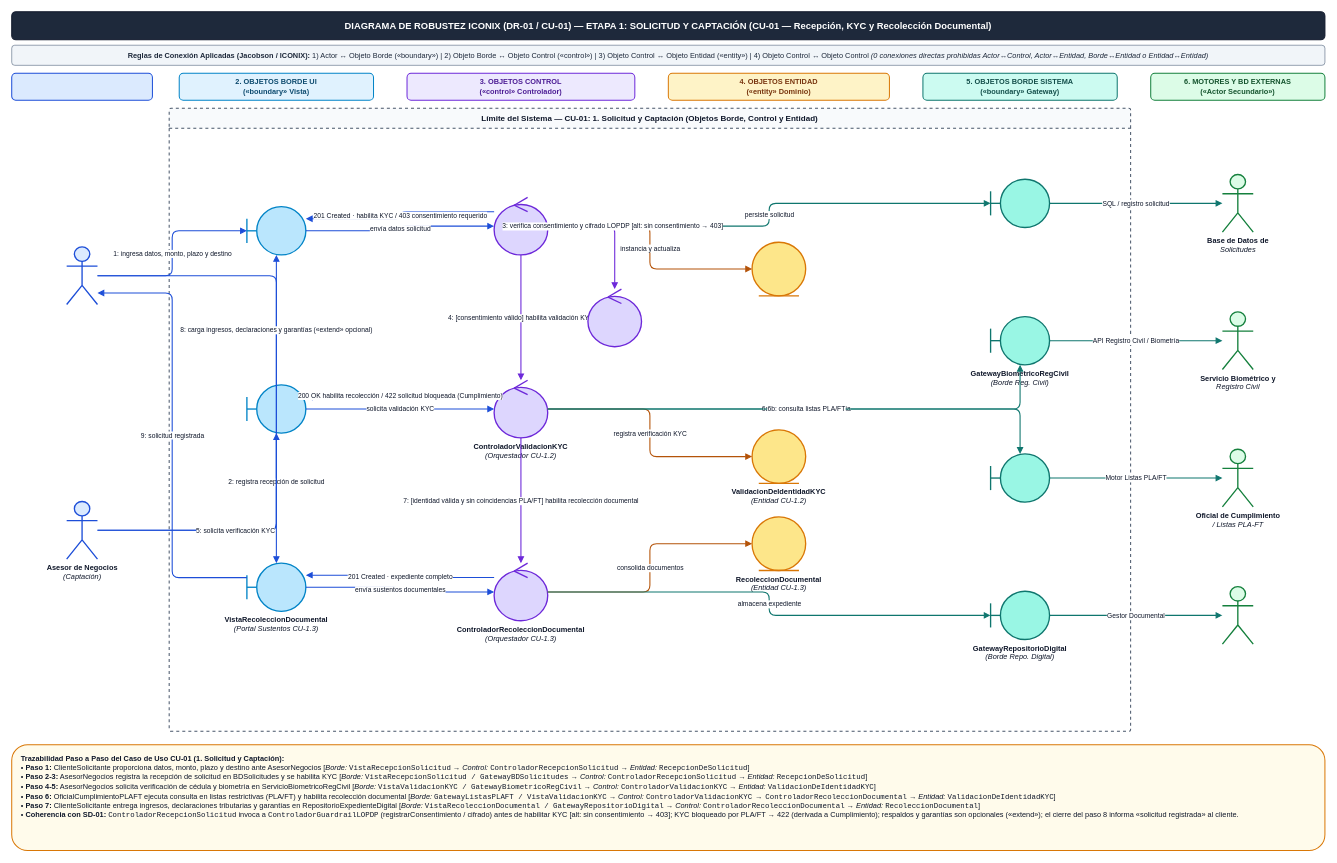
The diagram is 1337 pixels wide and 863 high, and some of its shapes have lost their labels. Here are the shapes that lost their labels. From the top down, the box of each, then its label:
(11, 73, 153, 100): 1. ACTORES PRINCIPALES («Actor»)
(990, 178, 1050, 228): GatewayBDSolicitudes (Borde BD Solicitudes)
(246, 206, 306, 255): VistaRecepcionSolicitud (Formulario CU-1.1)
(493, 196, 548, 255): ControladorRecepcionSolicitud (Orquestador CU-1.1)
(66, 246, 98, 305): Cliente / Socio Solicitante
(751, 241, 806, 296): RecepcionDeSolicitud (Entidad CU-1.1)
(587, 288, 642, 347): ControladorGuardrailLOPDP (Guardrail LOPDP CU-1.1)
(246, 384, 306, 433): VistaValidacionKYC (Pantalla KYC CU-1.2)
(990, 453, 1050, 503): GatewayListasPLAFT (Borde Listas PLA/FT)
(1221, 586, 1254, 645): Repositorio de Expediente Digital
